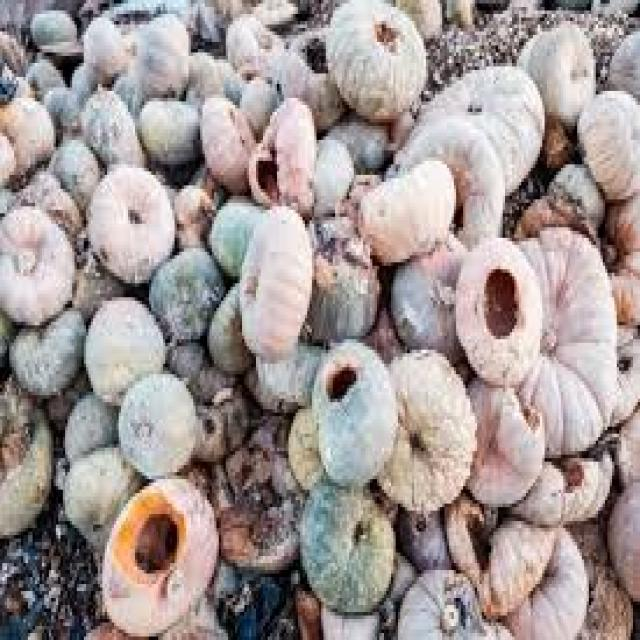organic waste: (0, 0, 638, 637), (514, 224, 614, 458), (95, 476, 219, 636), (414, 63, 540, 192), (207, 409, 305, 570), (377, 346, 472, 507), (386, 112, 503, 241), (440, 486, 556, 612), (307, 336, 398, 486), (452, 234, 542, 378), (298, 476, 393, 608), (235, 199, 312, 357), (323, 0, 421, 115), (0, 518, 91, 636), (494, 518, 584, 636), (356, 150, 452, 259), (86, 161, 170, 280), (466, 378, 542, 507), (388, 231, 466, 353), (244, 91, 314, 217), (81, 290, 163, 395), (308, 217, 380, 336), (0, 203, 72, 322), (116, 370, 196, 476), (58, 440, 137, 546), (516, 18, 594, 122), (147, 242, 226, 340), (5, 297, 84, 395), (274, 24, 346, 130), (0, 378, 49, 532), (76, 73, 146, 168), (393, 563, 482, 637), (4, 168, 82, 252), (575, 87, 638, 189), (128, 7, 189, 98), (196, 87, 253, 182), (96, 0, 221, 42), (252, 339, 324, 409), (202, 276, 249, 371), (221, 7, 282, 80), (596, 322, 638, 426), (63, 384, 119, 462), (0, 91, 54, 171), (140, 94, 198, 168), (559, 510, 612, 588), (204, 189, 260, 262), (605, 479, 638, 602), (165, 343, 233, 402), (44, 136, 98, 210), (547, 158, 603, 228), (307, 136, 356, 214), (284, 406, 326, 496), (512, 192, 586, 242), (70, 248, 126, 312), (559, 451, 612, 518), (326, 105, 386, 164), (596, 398, 638, 482), (396, 500, 452, 563), (235, 73, 289, 133), (596, 185, 638, 262), (79, 14, 128, 80), (582, 566, 628, 636), (158, 591, 226, 637), (368, 276, 407, 354), (316, 594, 388, 636), (172, 178, 214, 248), (509, 462, 558, 521), (42, 364, 91, 419), (602, 252, 638, 325), (602, 24, 638, 91), (377, 549, 417, 609), (0, 0, 77, 31), (26, 7, 76, 52), (212, 566, 249, 622), (388, 0, 442, 38), (186, 46, 224, 94), (533, 112, 572, 157), (44, 84, 79, 133), (23, 49, 58, 98), (340, 164, 377, 207), (293, 577, 319, 637), (221, 388, 247, 448), (198, 395, 223, 455), (0, 24, 28, 74), (70, 60, 102, 102), (184, 164, 221, 200), (230, 594, 261, 636), (214, 49, 242, 94), (379, 105, 412, 143), (254, 570, 279, 616), (474, 608, 510, 636), (0, 126, 16, 189), (0, 60, 28, 94), (591, 0, 637, 17), (84, 616, 123, 636), (442, 0, 472, 24), (46, 448, 68, 479), (266, 616, 300, 636), (124, 24, 138, 56), (516, 0, 588, 3)
